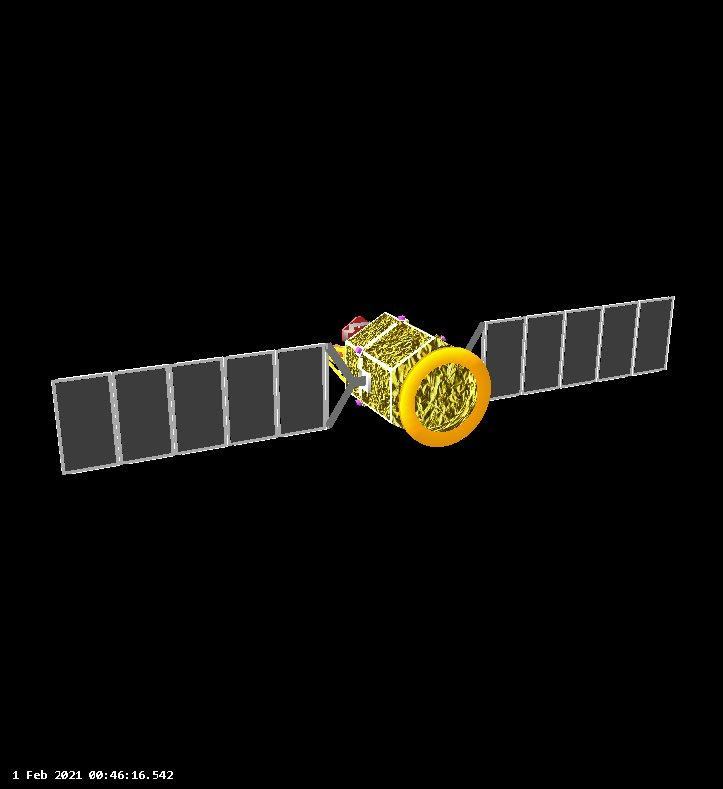antenna: (338, 311, 372, 342)
body: (339, 311, 455, 431)
solar: (49, 341, 337, 476), (476, 294, 675, 406)
thruster: (354, 398, 363, 407), (397, 314, 406, 321), (355, 347, 362, 354), (441, 334, 447, 341)
